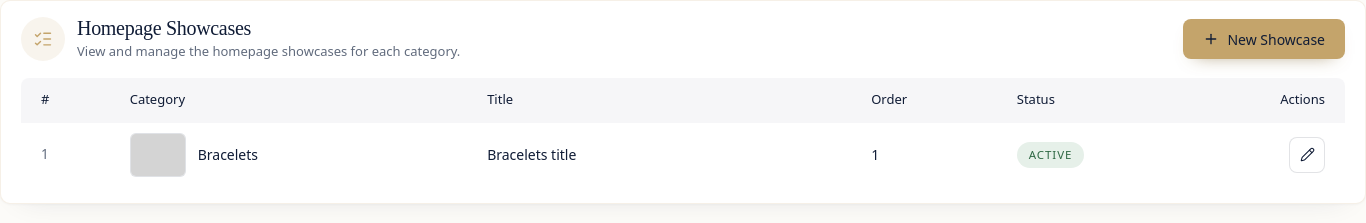
Status pill — ACTIVE ⇄ INACTIVE toggle › is a button that sets an ACTIVE showcase INACTIVE through updateCategoryShowcaseAction
Click the button with test id "showcase-status-toggle": (1051, 155) [1017,142,1084,168]
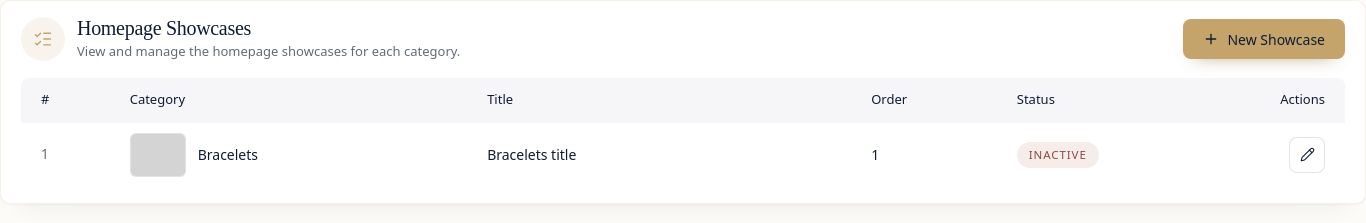
Now the button with test id "showcase-status-toggle" reads "Inactive", box [1017,142,1099,168]
